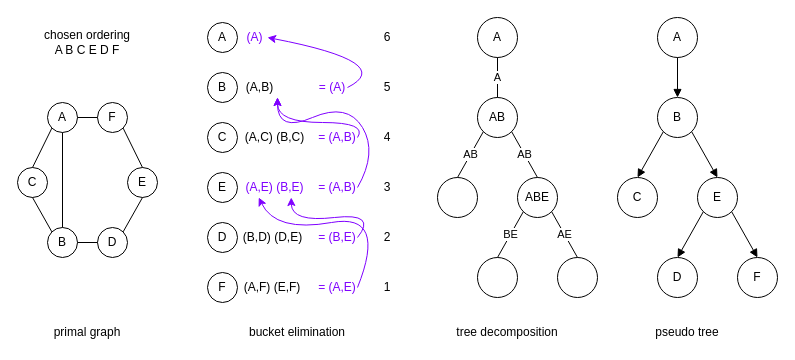
Some shapes in this 795 by 360 pixel diagram are drawn without their labels. The box of each missing label's shape, as (x1, y1, x2, y2) in pixels:
ABC: (436, 176, 478, 218)
AEF: (556, 256, 598, 298)
BDE: (476, 256, 518, 298)
